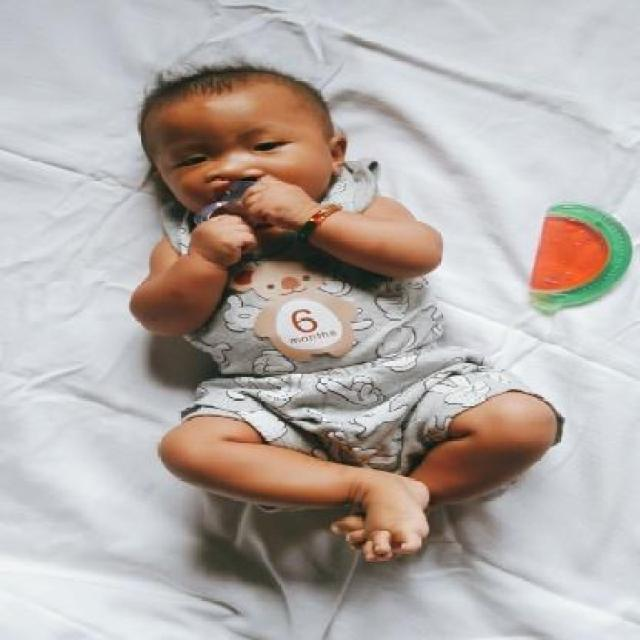baby: (128, 62, 564, 560)
